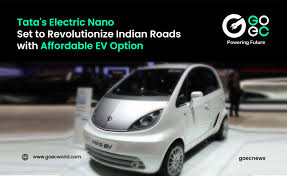Nano: (84, 65, 228, 176)
